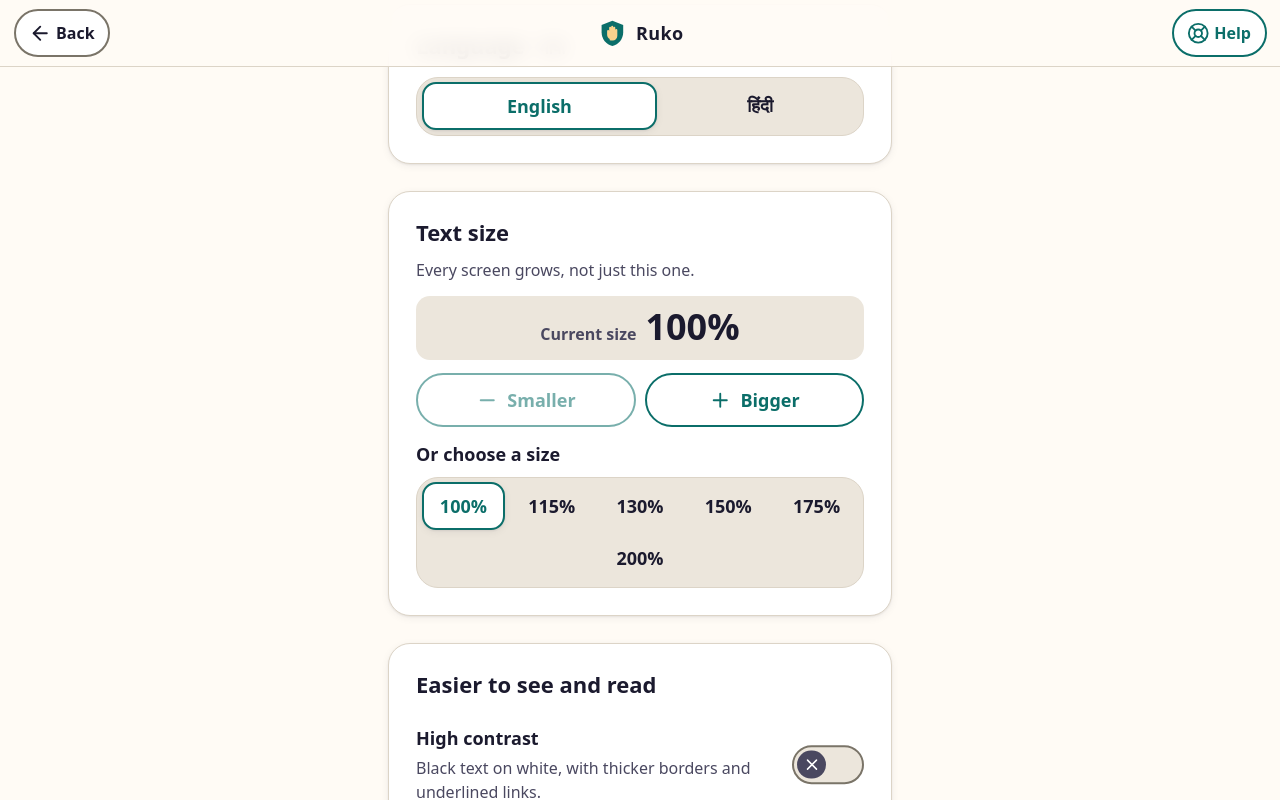
Test: /adapt — Adapt to me › changes text size with Smaller / Bigger buttons and named sizes, never by dragging
(page scrolled)
Click the button "Smaller" at (526, 400), box [416,374,636,428]
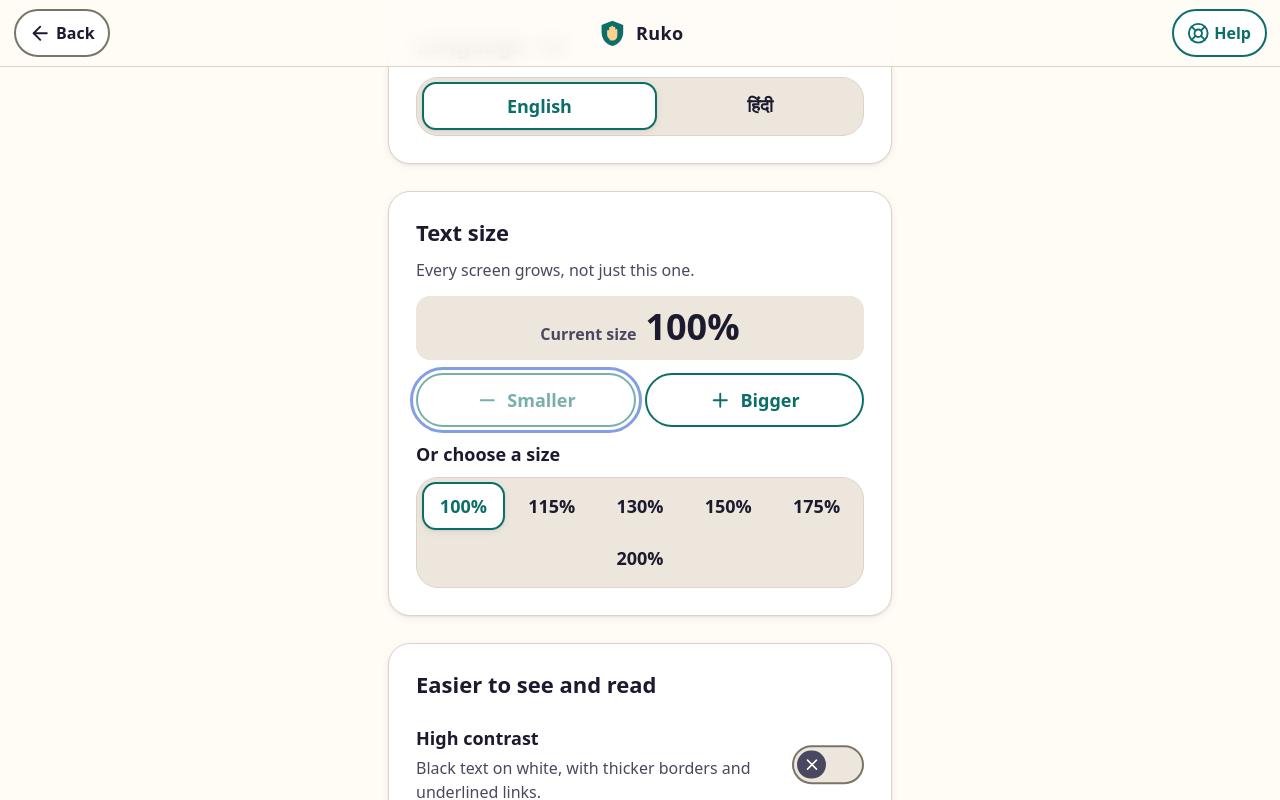
Click the button "Bigger" at (754, 400), box [644,374,864,428]
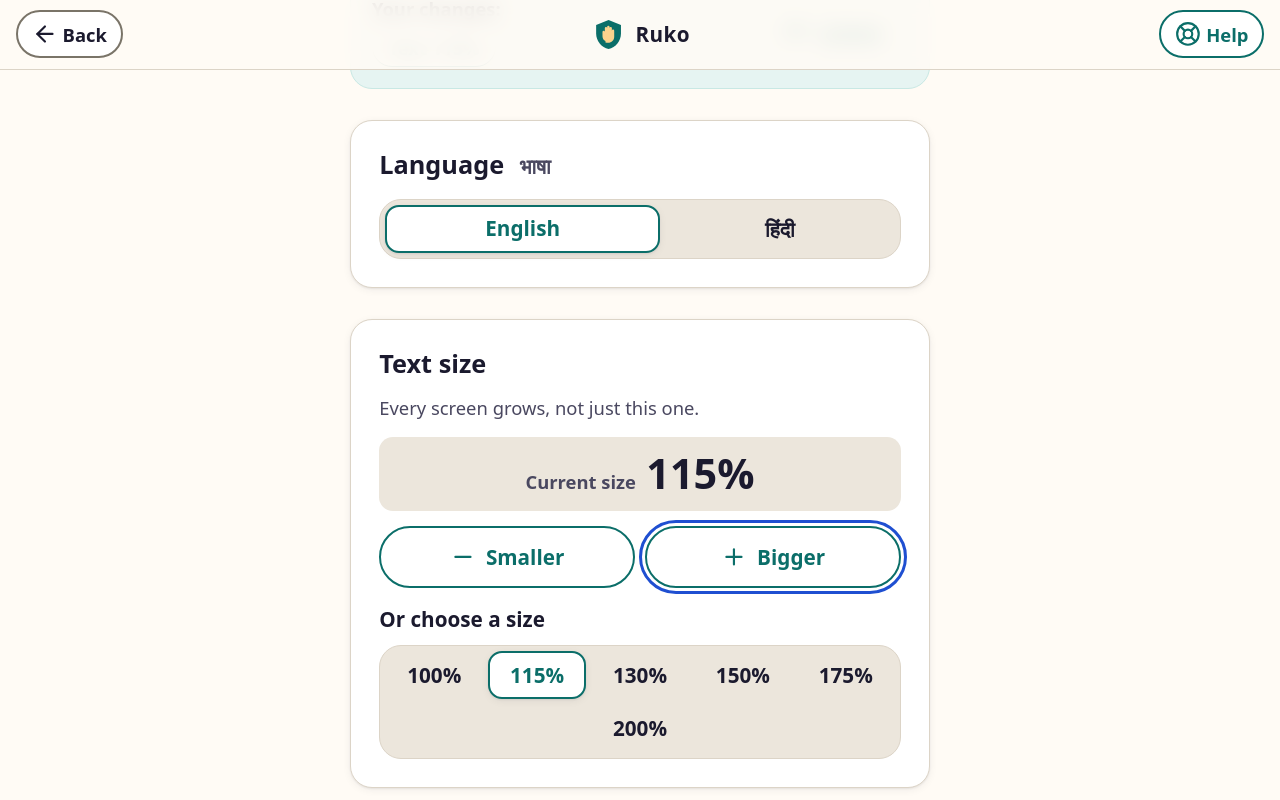
Now the element showing "Current size 115%" is shown, box [379,437,901,511]
Now the radio button labelled "115%" is checked, box [488,651,586,699]
Click the radio button labelled "200%" at (640, 728), box [613,714,667,742]
(page scrolled)
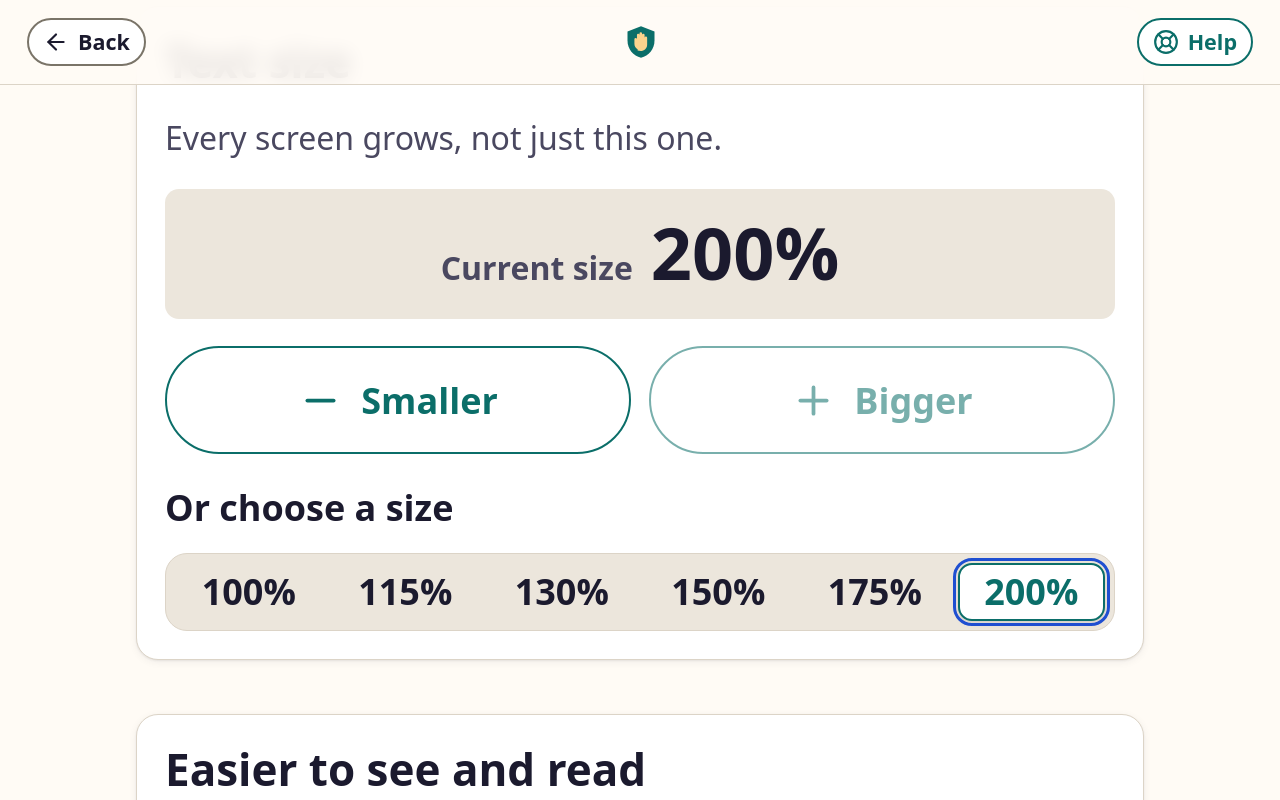
Now the button "Bigger" is disabled
Click the button "Bigger" at (882, 400), box [649,346,1115,454]
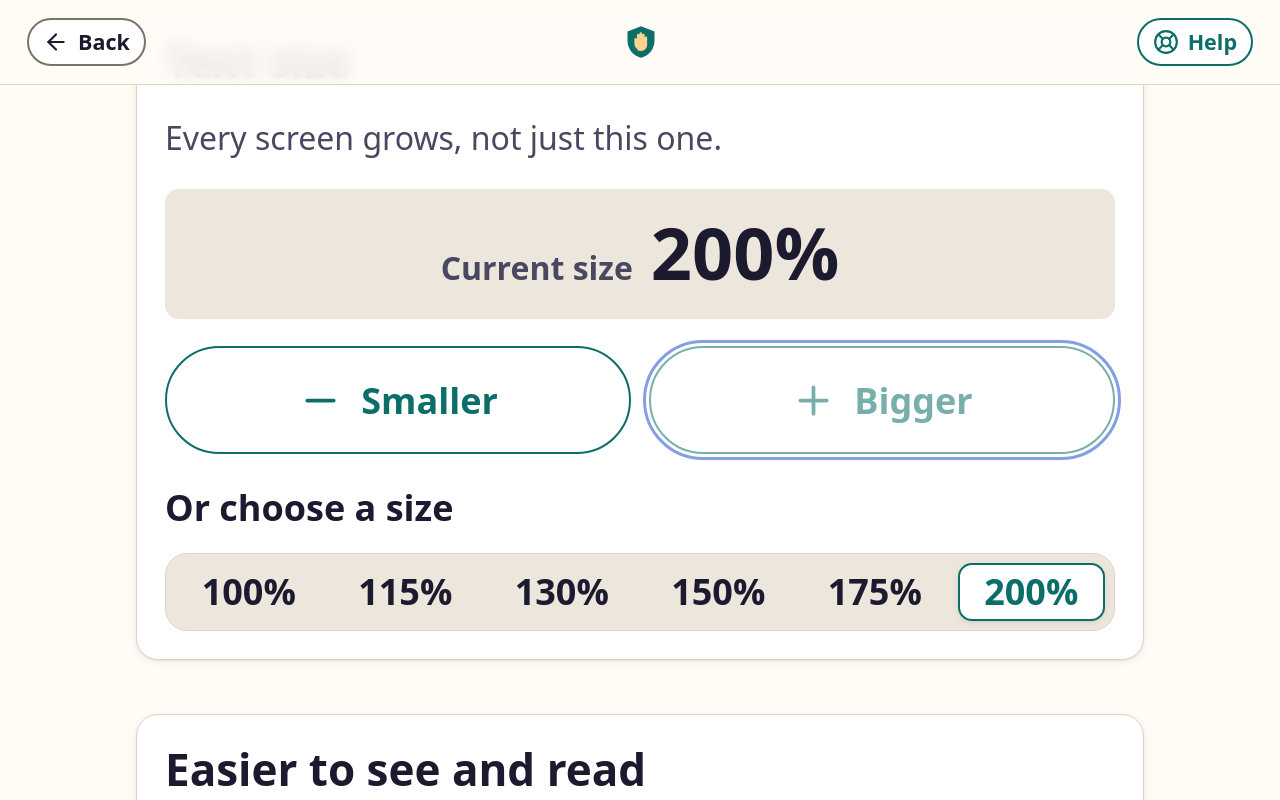
Click the button "Smaller" at (398, 400), box [165,346,631,454]
(page scrolled)
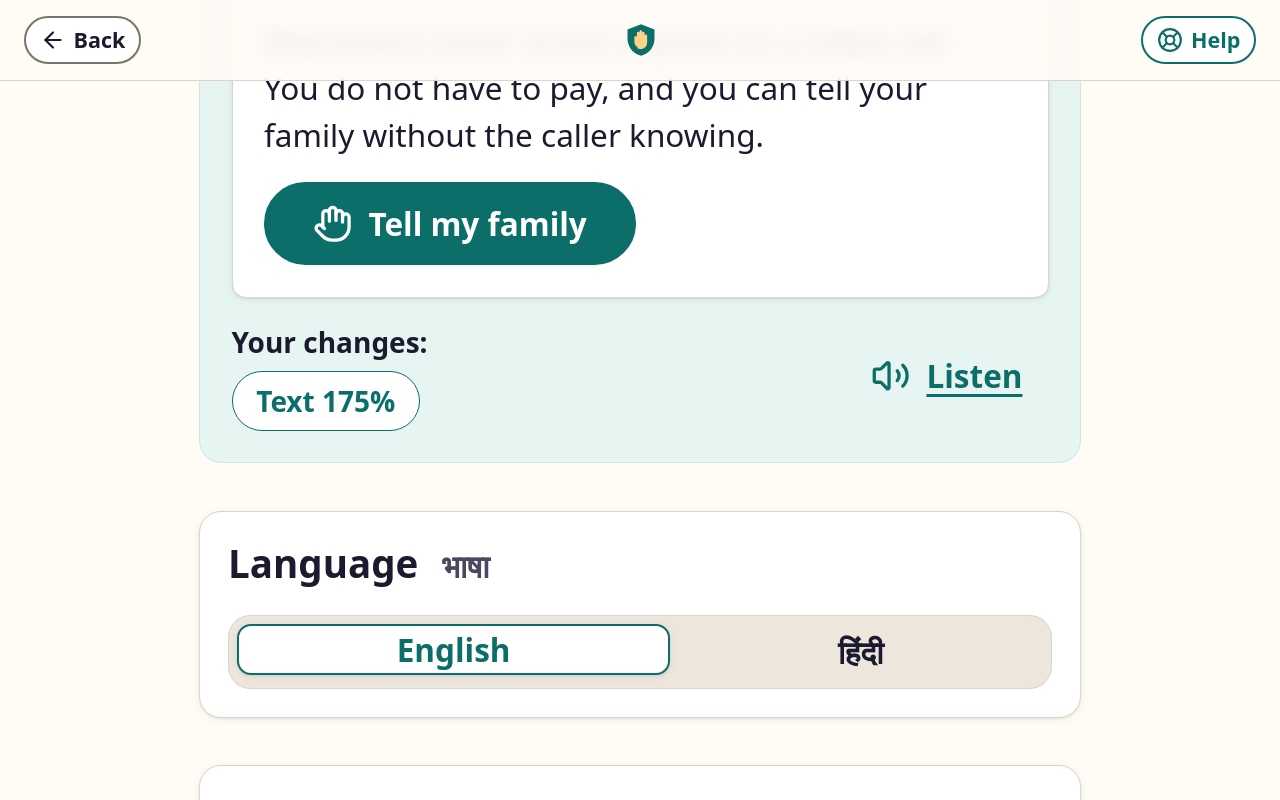
Now the list item "Text 175%" is shown, box [232,371,420,431]
